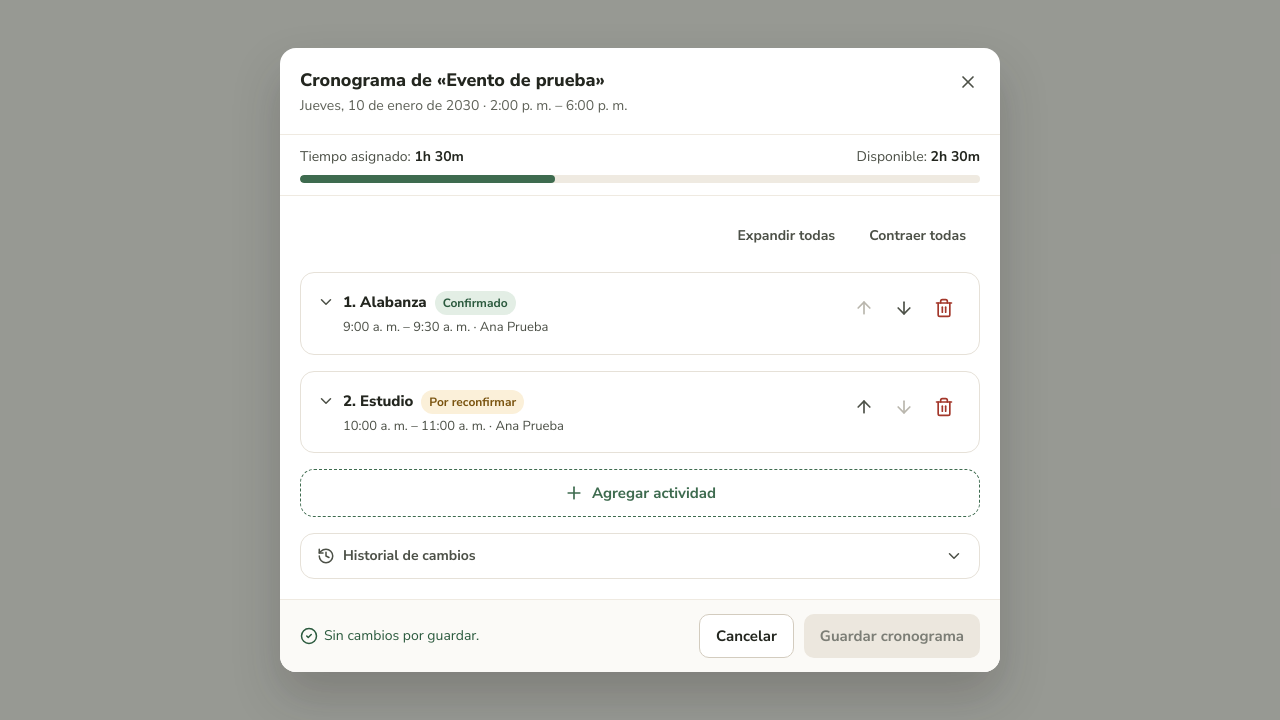
Test: ScheduleModal: actividades contraíbles › «Expandir todas» y «Contraer todas» actúan sobre todo el cronograma
expect the element named "Actividad 1" is shown: met, box [300, 272, 980, 354]
Click the button "Expandir todas" at [786, 236], box [723, 216, 849, 256]
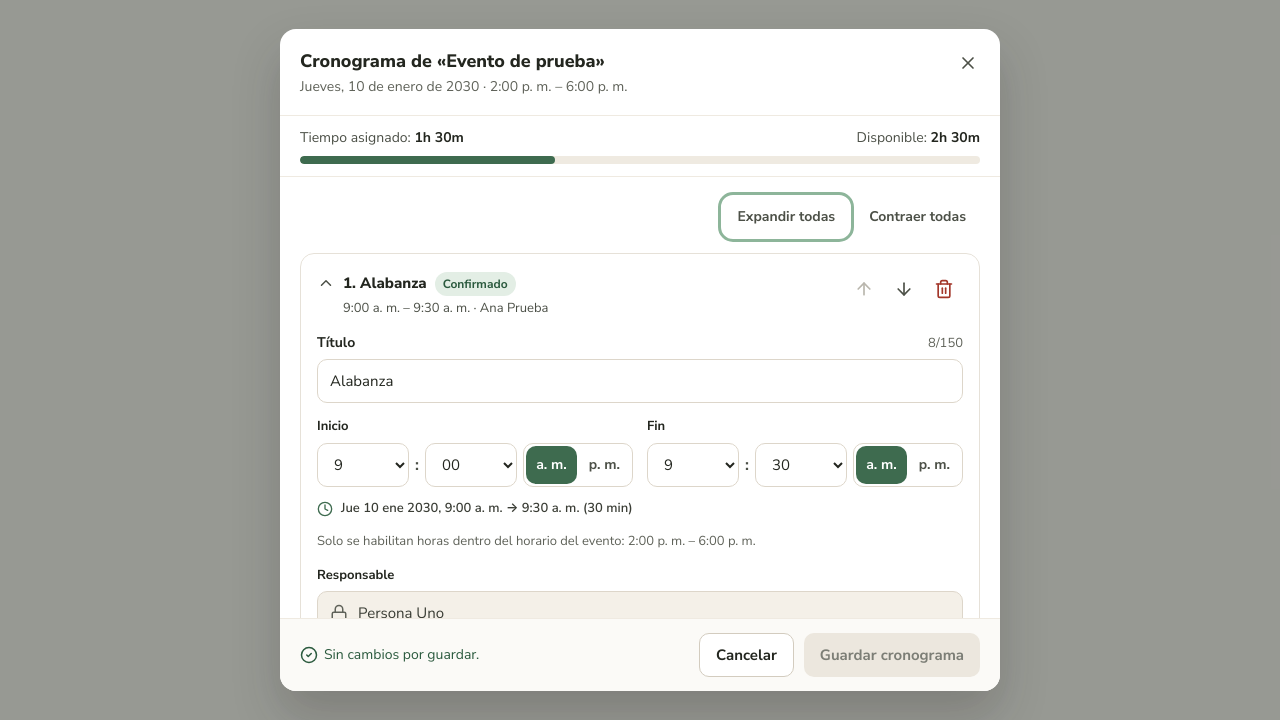
expect the field labelled "Título" holds "Alabanza": met, box [317, 359, 963, 403]
Click the button "Contraer todas" at [918, 217], box [855, 197, 980, 237]
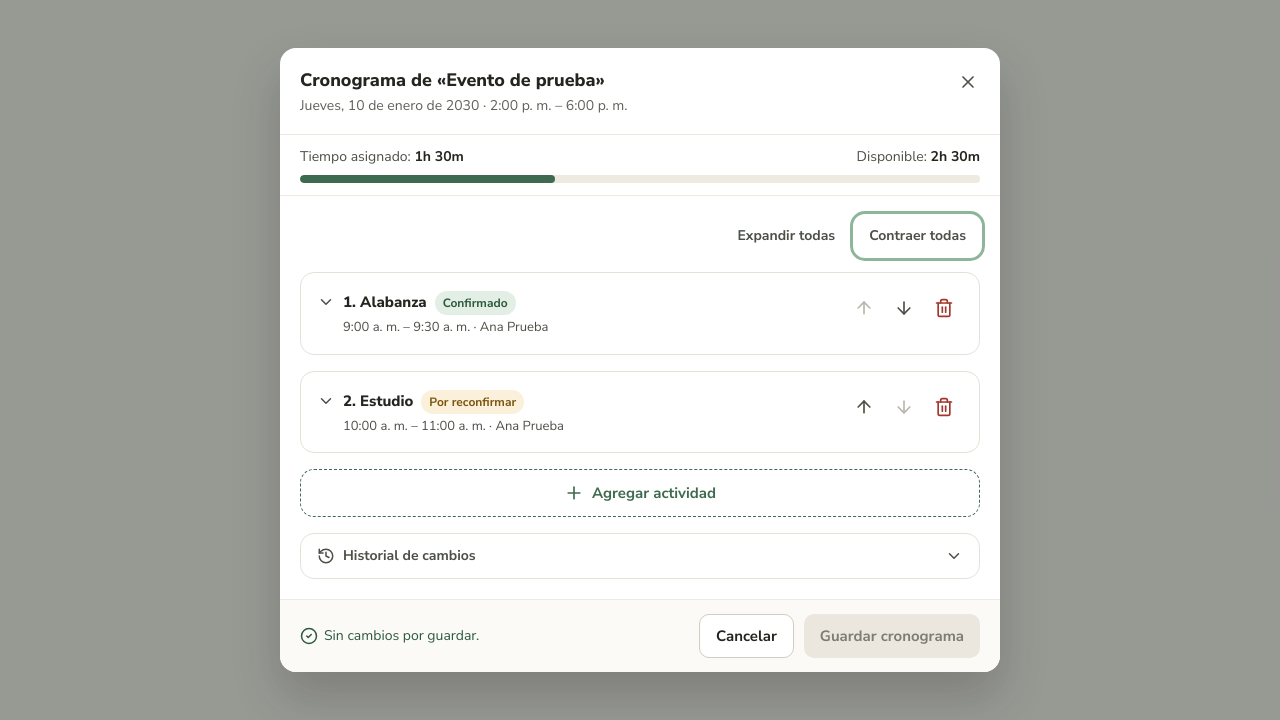
expect the label labelled "Título" is gone: met
